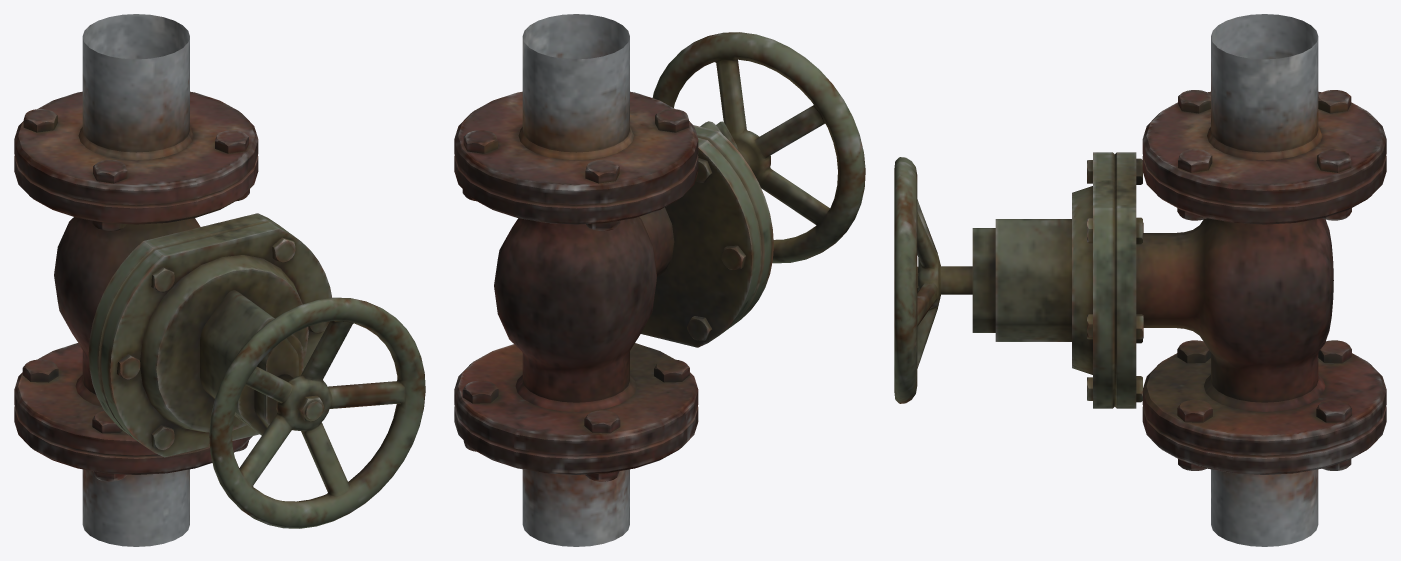
File: PipeSteel.fbx
The picture shows the model from 3 angles, left to right: view 1: azimuth 30°, elevation 25°; view 2: azimuth 150°, elevation 25°; view 3: azimuth 270°, elevation 25°; orthographic projection.
Parts seen in each view (by area): view 1: pipe_valve_large_metal.002; view 2: pipe_valve_large_metal.002; view 3: pipe_valve_large_metal.002.
Part boxes in pixels (x1,y1,x2,y2): pipe_valve_large_metal.002: [14, 14, 425, 546]; pipe_valve_large_metal.002: [454, 14, 865, 546]; pipe_valve_large_metal.002: [894, 14, 1386, 546].
Bounding box in the file's own units: 23.99 × 50 × 45.78.
